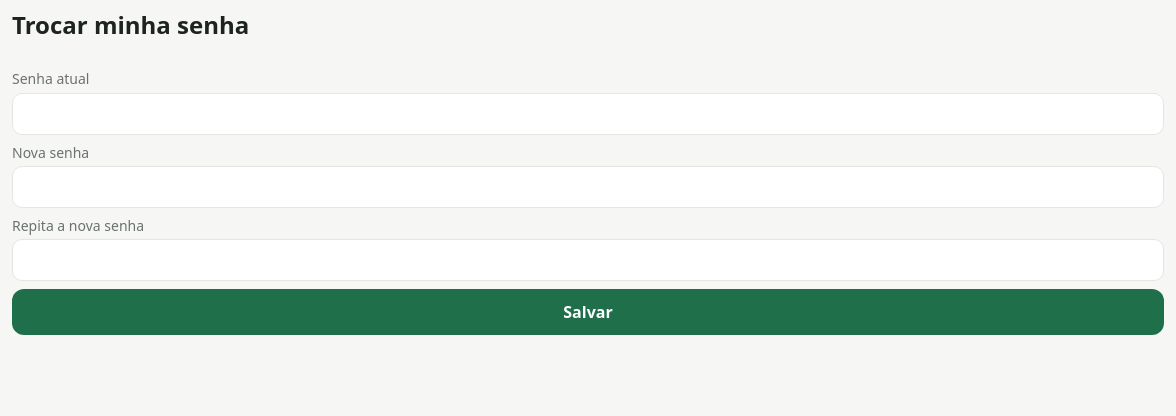
Scenario: TrocarSenha — voluntária (P2) › rejeita a senha padrão 123456 (P3)
The width and height of the screenshot is (1176, 416).
Type "atual123" into the password field labelled "Senha atual".
click(588, 114); type("atual123")  # box [12, 93, 1164, 135]
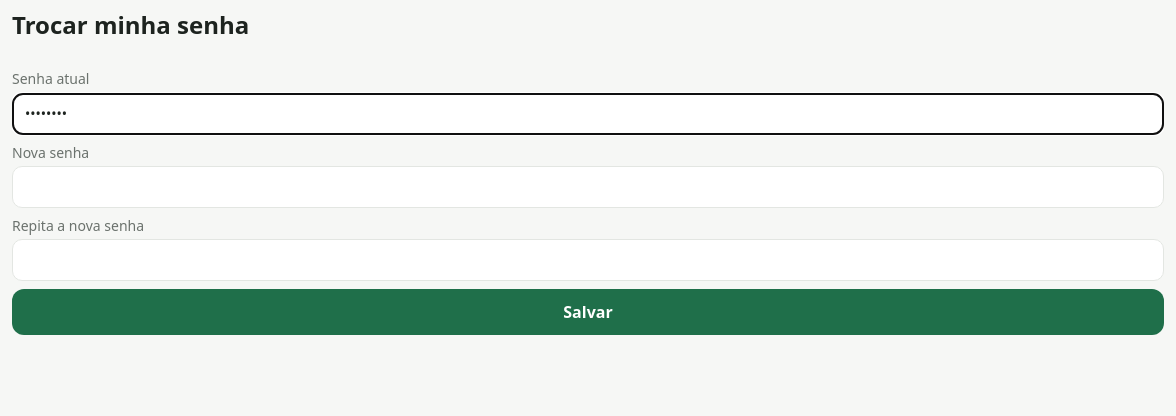
Type "123456" into the password field labelled "Nova senha".
click(588, 187); type("123456")  # box [12, 166, 1164, 208]
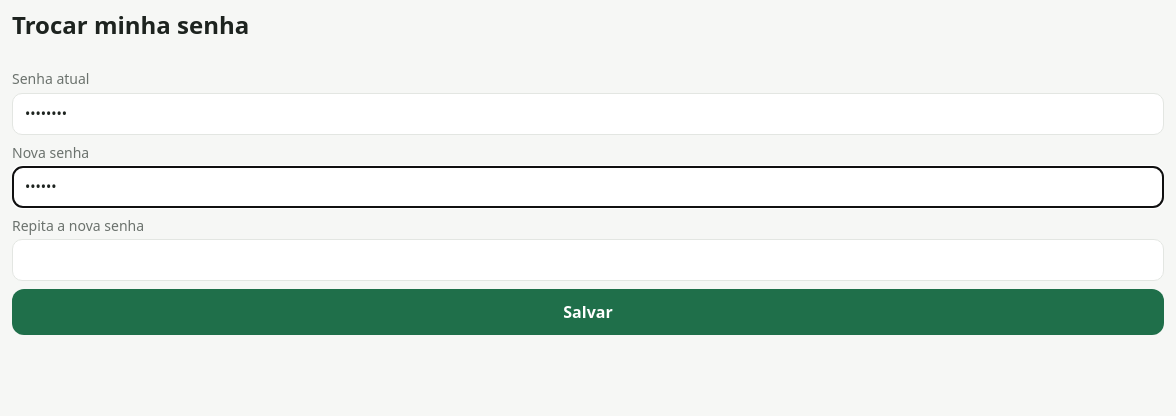
Type "123456" into the password field labelled "Repita a nova senha".
click(588, 260); type("123456")  # box [12, 239, 1164, 281]
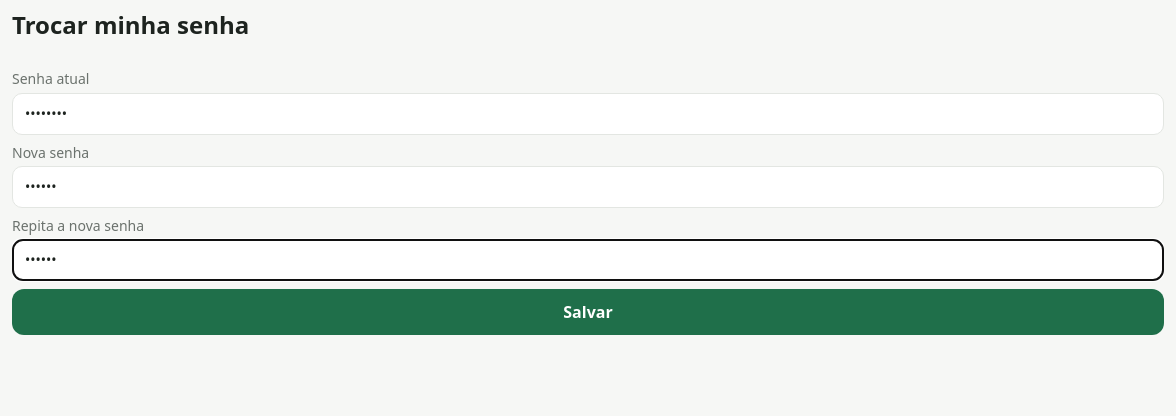
Click the button "Salvar".
click(588, 312)  # box [12, 289, 1164, 335]
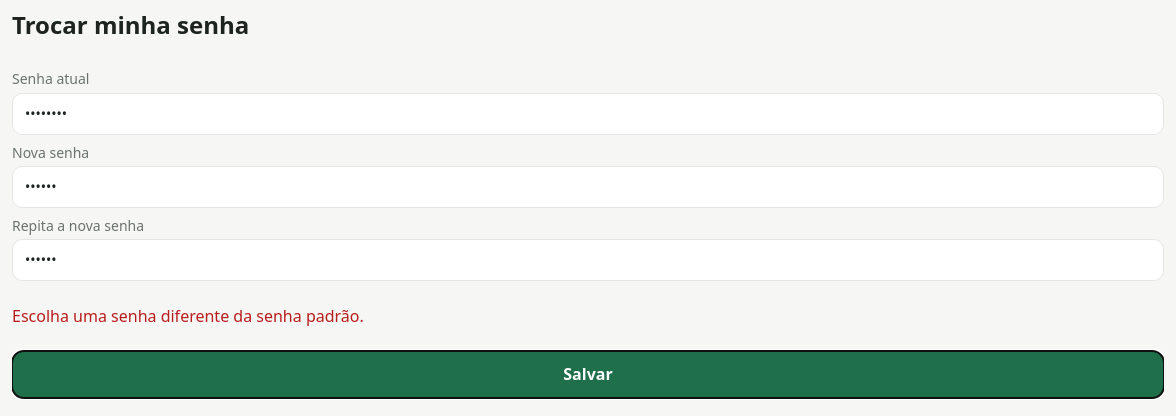
Check: the text "Escolha uma senha diferente da senha padrão." is shown, box [12, 305, 364, 327]
